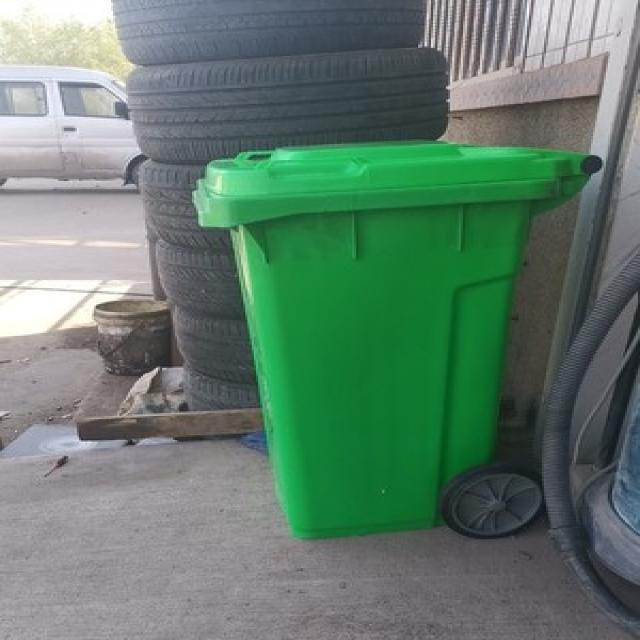ash bin: (190, 134, 601, 541)
car: (0, 61, 143, 186)
